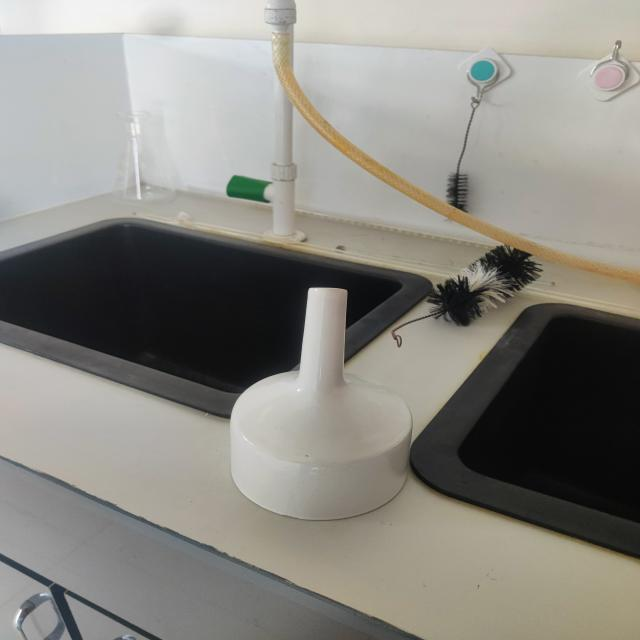Buchner_Funnel: (199, 267, 442, 548)
